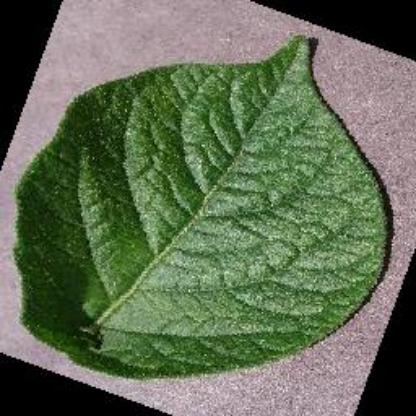Healthy-plant: (1, 17, 402, 405)
